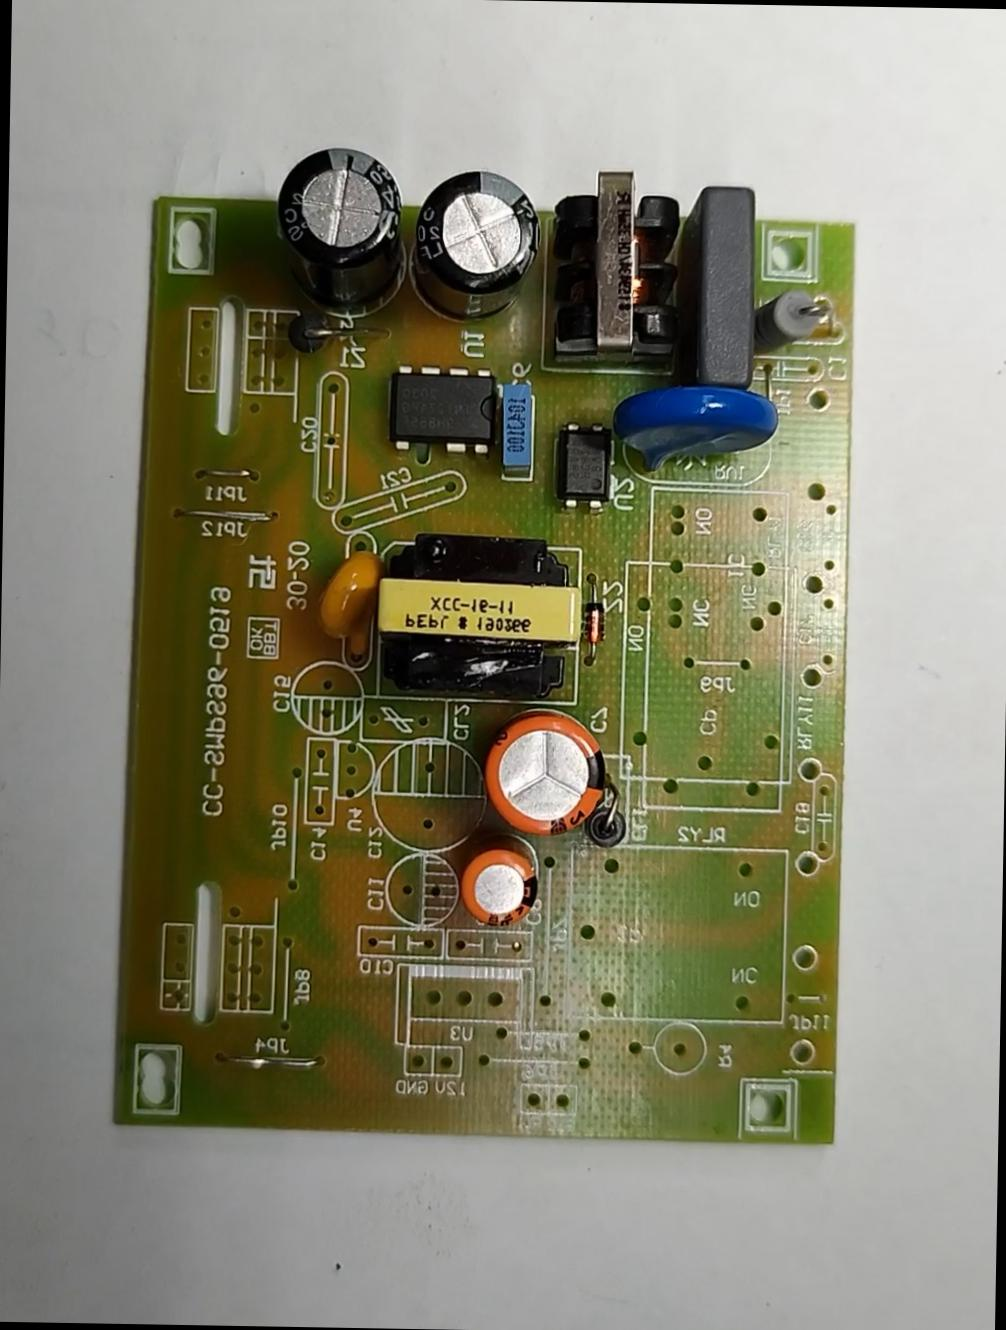Cap1: (482, 711, 609, 840)
Cap2: (460, 847, 539, 929)
Cap3: (405, 166, 541, 330)
Cap4: (272, 148, 410, 323)
MOSFET: (391, 364, 498, 456)
Mov: (606, 383, 784, 483)
Resistor: (752, 284, 824, 357)
Transformer: (375, 536, 578, 703), (546, 166, 684, 366)
